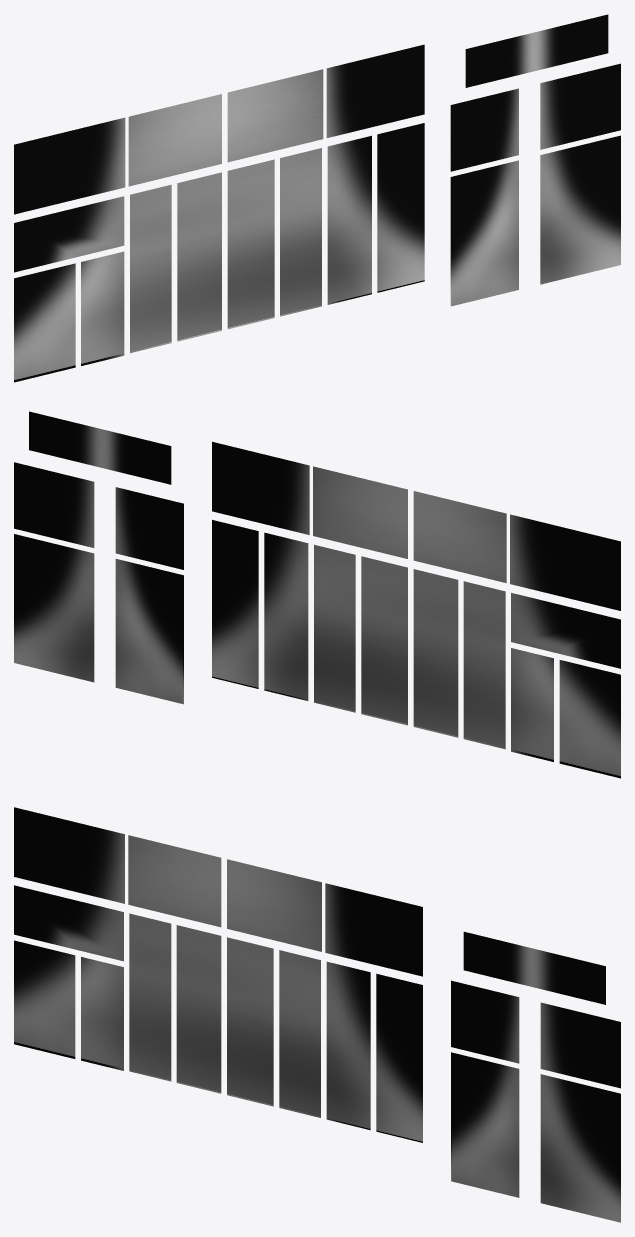
The model's file is ENV_Windows_Batiment_01.fbx.
The picture shows the model from 3 angles, top to bottom: view 1: azimuth 30°, elevation 25°; view 2: azimuth 150°, elevation 25°; view 3: azimuth 330°, elevation 25°; orthographic projection.
Parts seen in each view (by area): view 1: ENV_Batiment_02.001; view 2: ENV_Batiment_02.001; view 3: ENV_Batiment_02.001.
Boxes of the visible parts, bbox=[...] form: ENV_Batiment_02.001: bbox=[14, 14, 620, 382]; ENV_Batiment_02.001: bbox=[14, 411, 620, 778]; ENV_Batiment_02.001: bbox=[14, 807, 620, 1222].
Bounding box in the file's own units: 582 × 246 × 2.01.
